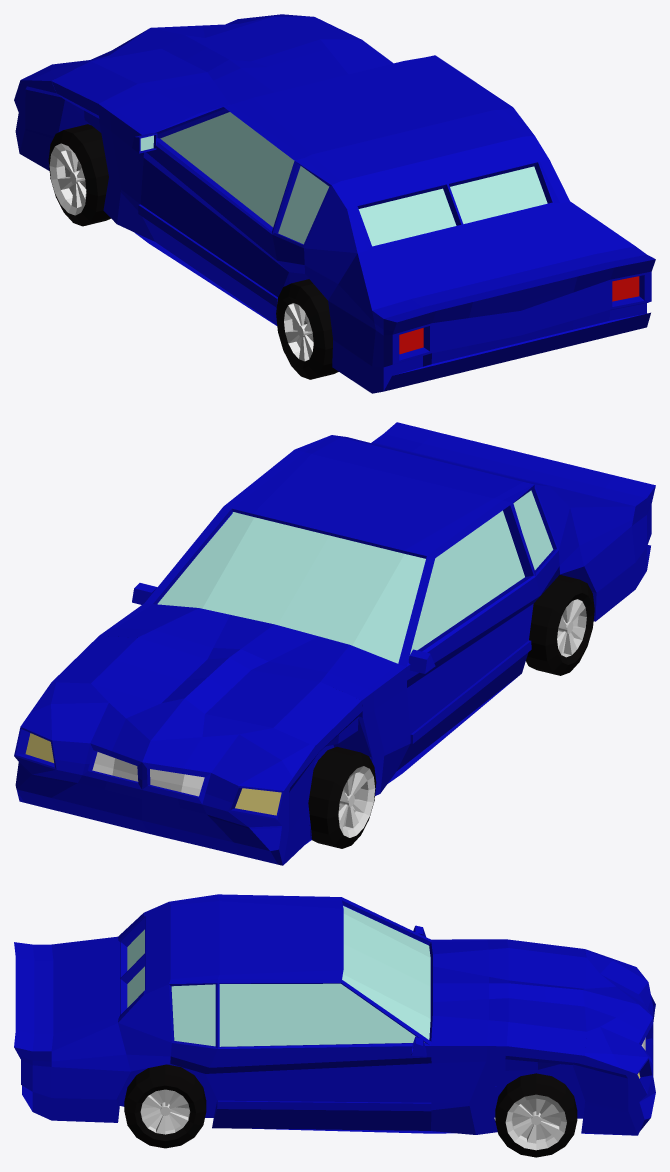
Rendered from Auto.fbx.
3 renders of one model, top to bottom at view 1: azimuth 30°, elevation 25°; view 2: azimuth 150°, elevation 25°; view 3: azimuth 270°, elevation 25°, orthographic. The views are drawn at different scales.
Parts seen in each view (by area): view 1: Teloauta, Leveprednikolo, Levezadnikolo; view 2: Teloauta, Leveprednikolo, Levezadnikolo; view 3: Teloauta, Praveprednikolo, Pravezadnikolo.
Part boxes in pixels (left/top/right/bottom): Teloauta: left=14, top=14, right=655, bottom=393; Leveprednikolo: left=48, top=124, right=110, bottom=226; Levezadnikolo: left=276, top=279, right=338, bottom=379; Teloauta: left=14, top=422, right=655, bottom=865; Leveprednikolo: left=308, top=746, right=376, bottom=848; Levezadnikolo: left=526, top=575, right=594, bottom=675; Teloauta: left=14, top=894, right=655, bottom=1135; Praveprednikolo: left=495, top=1073, right=577, bottom=1157; Pravezadnikolo: left=124, top=1064, right=206, bottom=1148.
Bounding box in the file's own units: 1.32 × 2.97 × 0.8324.
